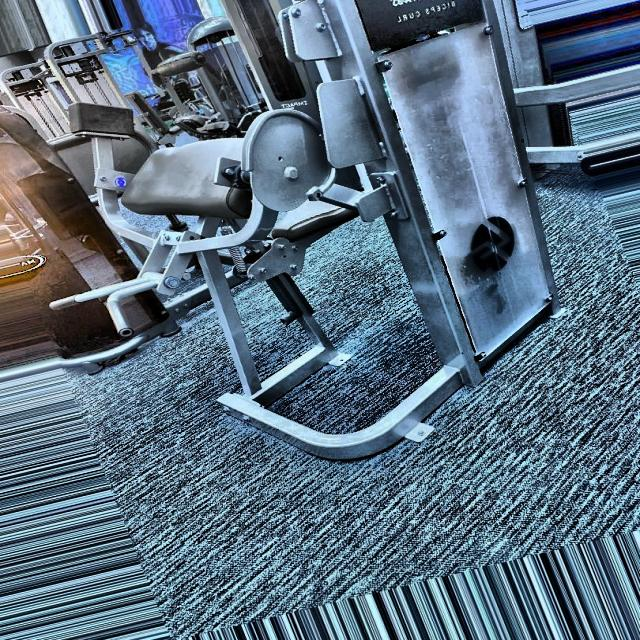bicep_curl_machine: (2, 9, 458, 508)
